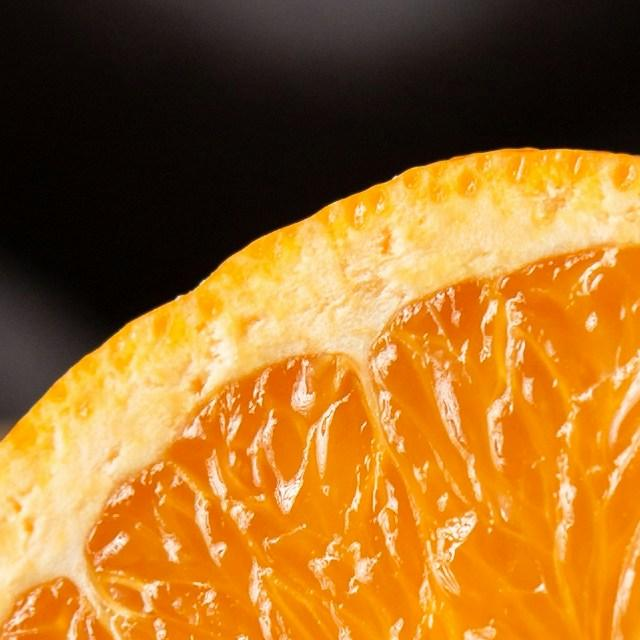orange: (0, 138, 640, 640)
